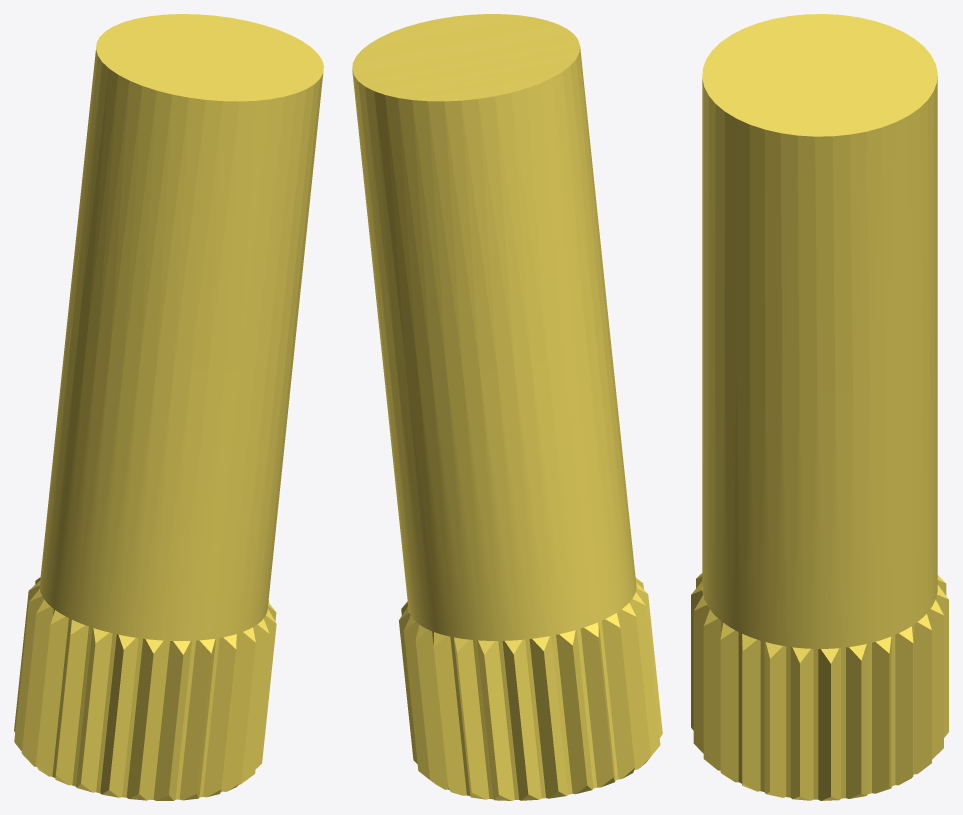
Rendered from UMIRobot_UMIRobot_link_4_vis_2.dae.
3 views of the same model, side by side, from view 1: azimuth 30°, elevation 25°; view 2: azimuth 150°, elevation 25°; view 3: azimuth 270°, elevation 25° (orthographic). The views are drawn at different scales.
Parts seen in each view (by area): view 1: node; view 2: node; view 3: node.
Part boxes in pixels (x1=…): node: x1=14, y1=14, x2=323, y2=800; node: x1=352, y1=14, x2=662, y2=800; node: x1=691, y1=14, x2=948, y2=800.
Size of the model in its own units: 0.00742 by 0.018 by 0.0058.
